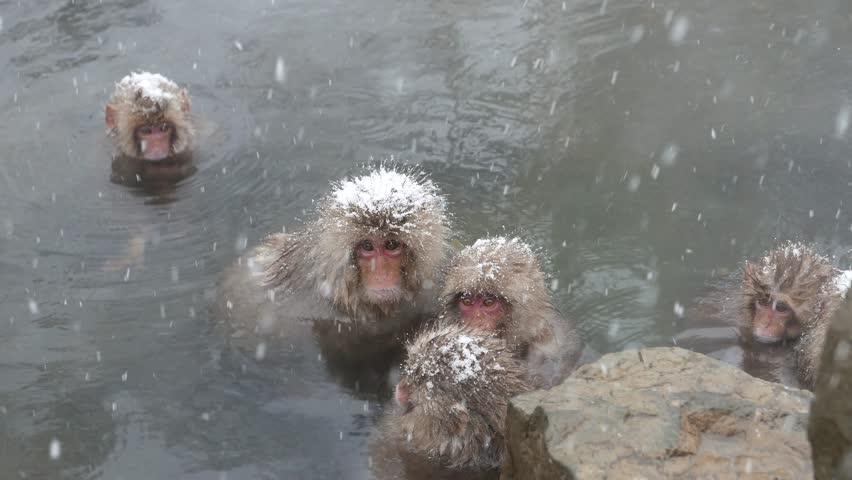monkey: (218, 171, 584, 480)
